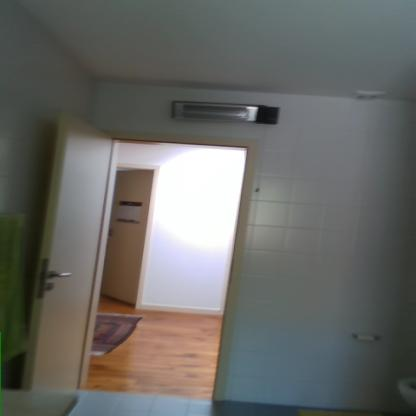open: (25, 103, 267, 409)
